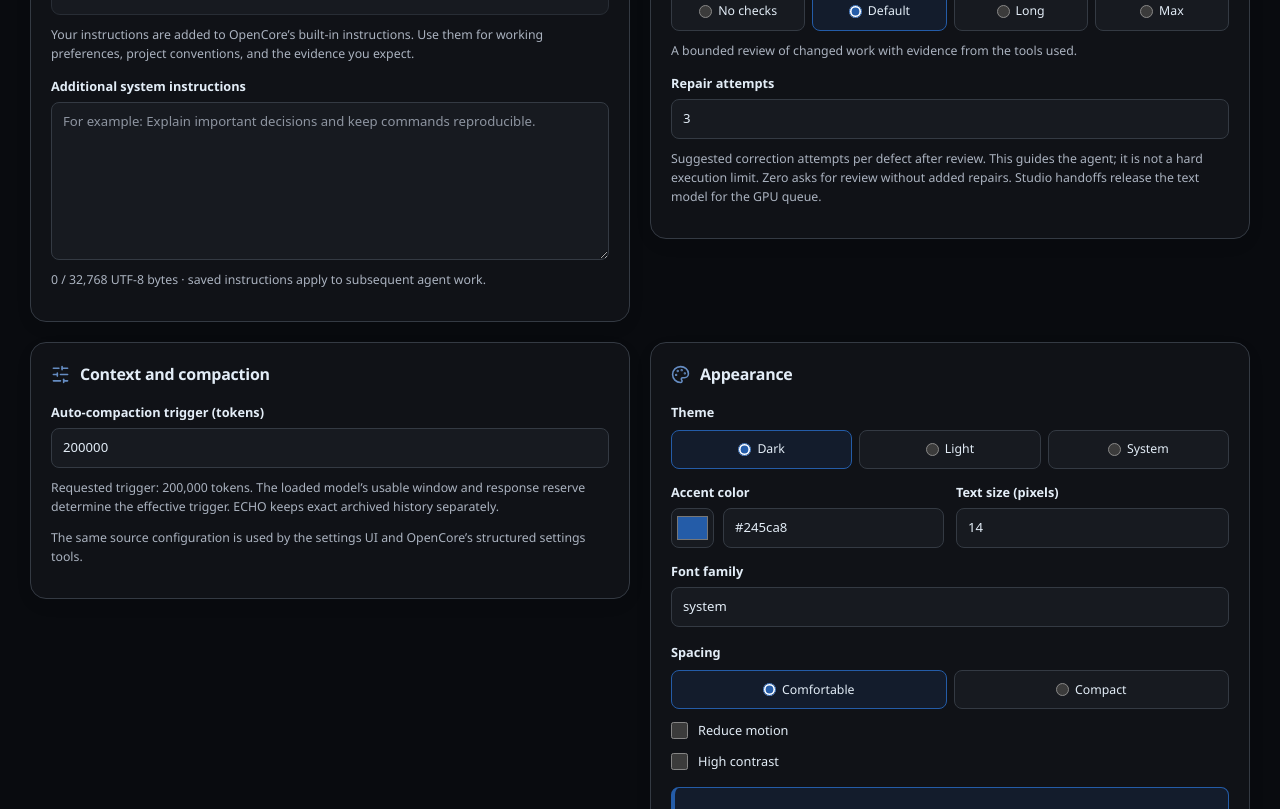
it: AgentPlatformSettings › labels the browser preview and disables persistence actions without a native bridge
(page scrolled)
Click the radio button labelled "Light".
click(932, 450)  # box [926, 443, 939, 456]
(page scrolled)
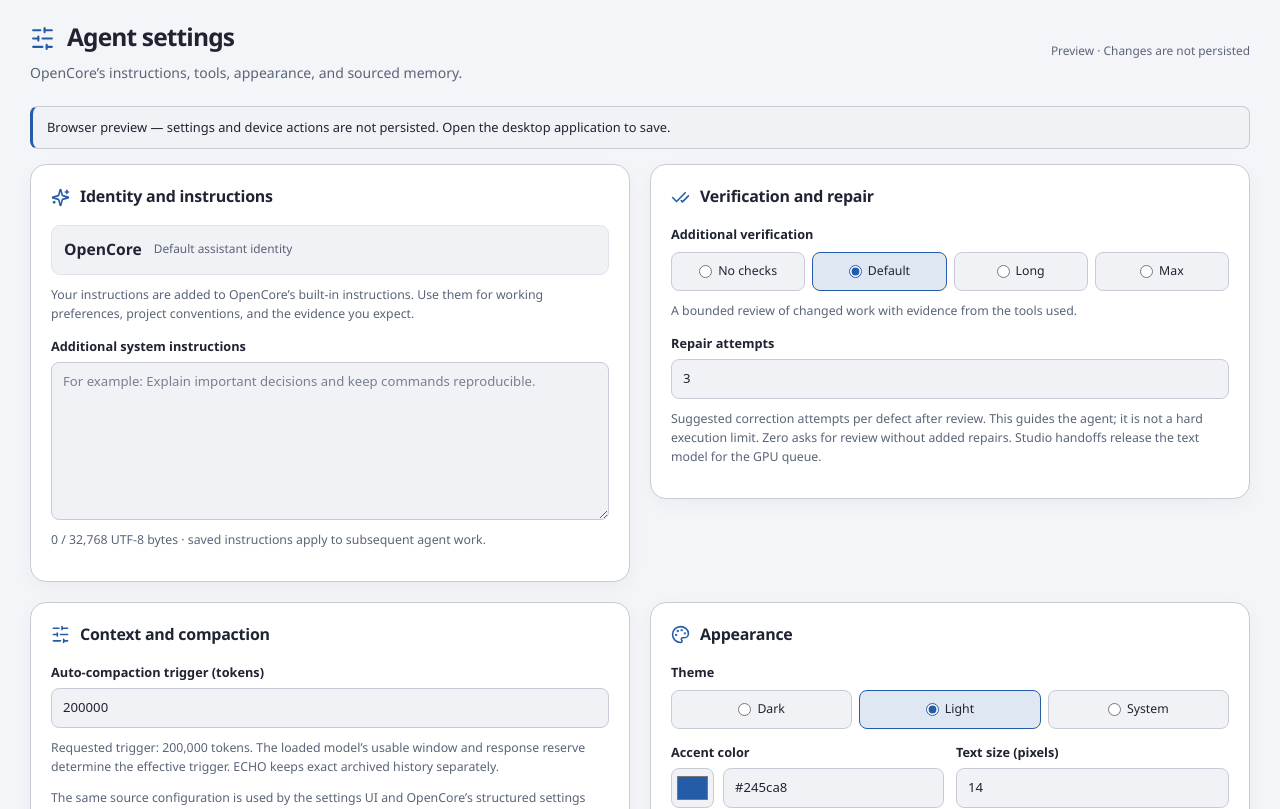
Now the message named "Agent settings save status" shows "Preview", box [1051, 43, 1250, 59]
